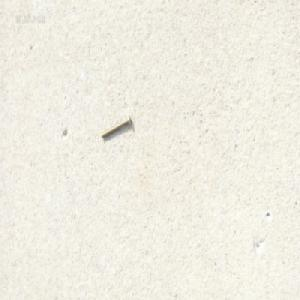Bolt: (100, 114, 131, 139)
